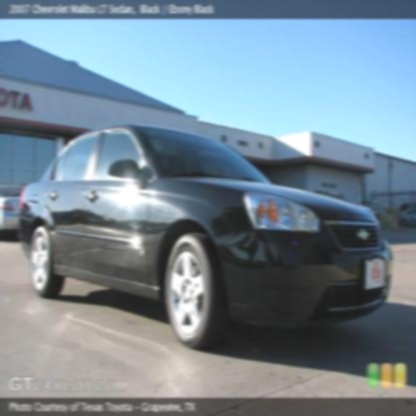Vehicle: (20, 125, 394, 348)
